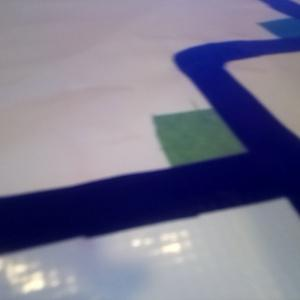top_left: (152, 108, 266, 202), (259, 18, 300, 51)
